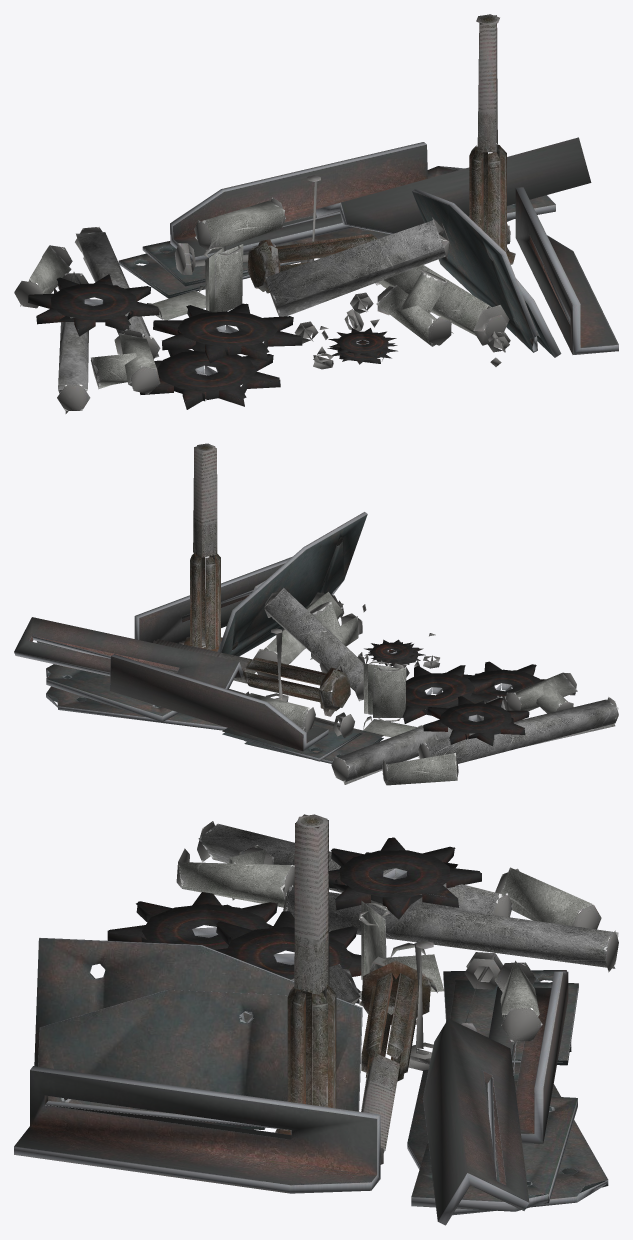
The model's file is metal.glb.
3 views of the same model, one above another, from view 1: azimuth 30°, elevation 25°; view 2: azimuth 150°, elevation 25°; view 3: azimuth 270°, elevation 25° (orthographic). The views are drawn at different scales.
Visible parts, largest first — view 1: defaultMaterial; view 2: defaultMaterial; view 3: defaultMaterial.
Part boxes in pixels (x1,y1,x2,y2): defaultMaterial: [14, 14, 618, 413]; defaultMaterial: [14, 443, 618, 785]; defaultMaterial: [14, 814, 618, 1225].
Bounding box in the file's own units: 2 × 0.7852 × 1.31.
1 material, 1 textured.
